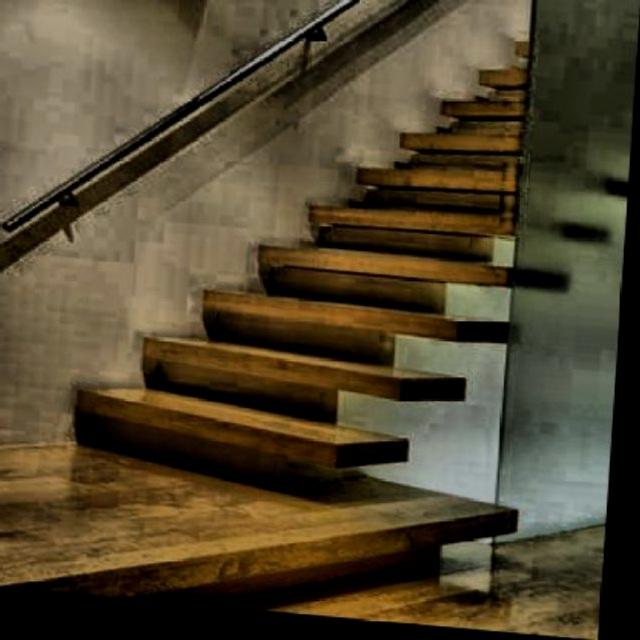stair: (78, 9, 611, 469)
